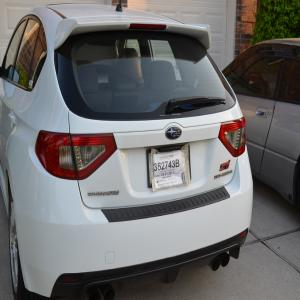Vehicle-registration-plate: (151, 141, 192, 197)
